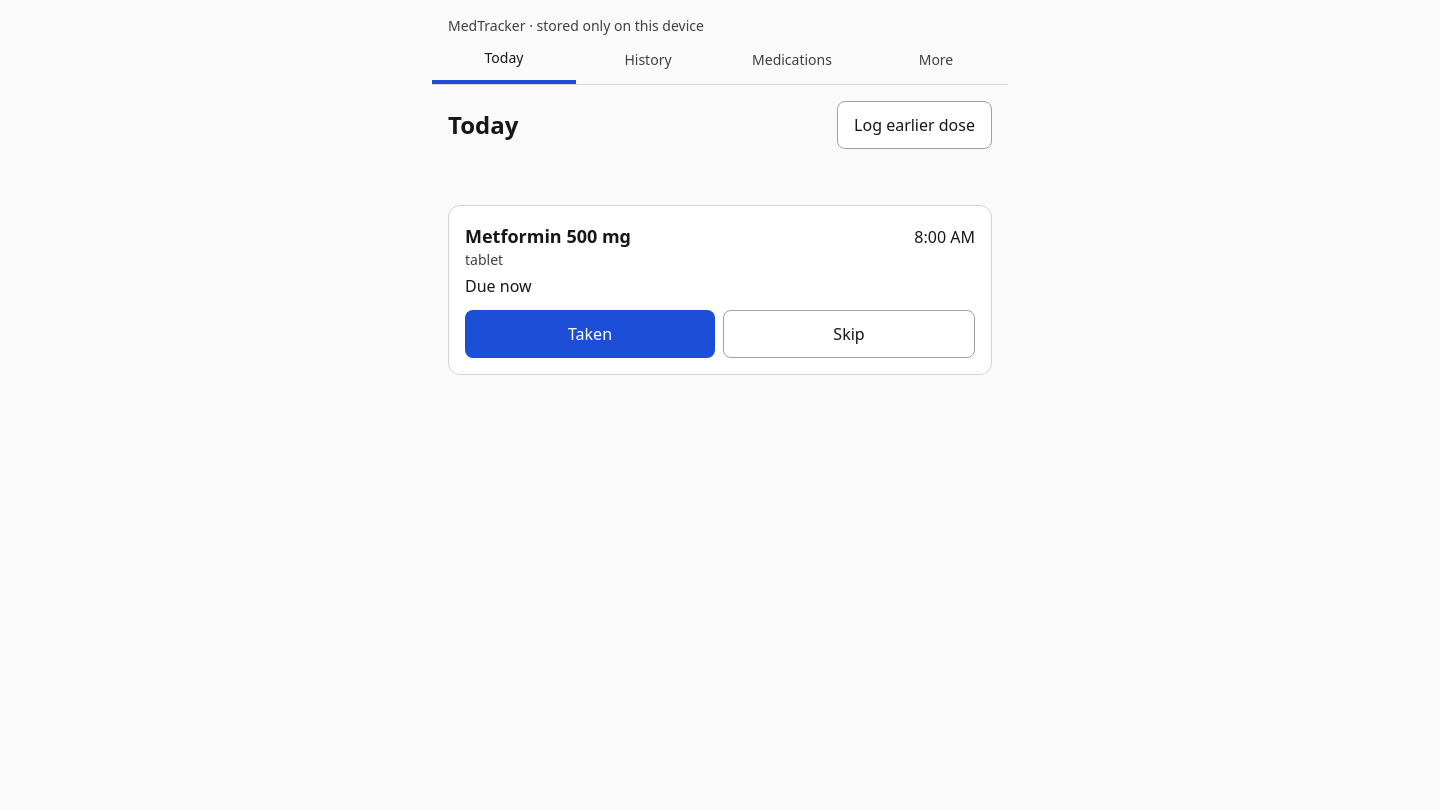
Test: History › shows corrections with original time context and change history
Click the button "Taken" at coordinates (590, 334), box [465,310,715,358]
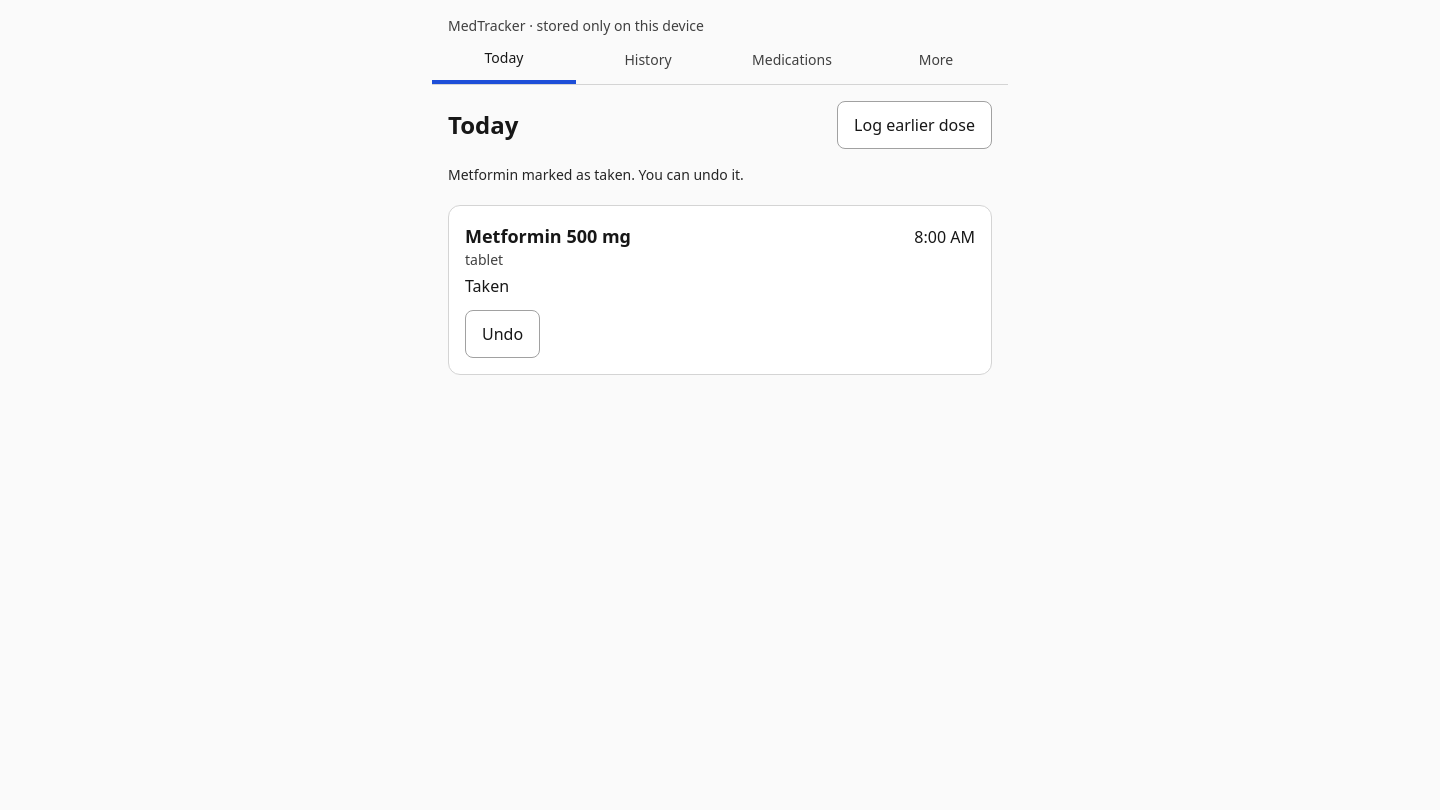
Click the tab "History" at coordinates (648, 60), box [576,36,720,84]
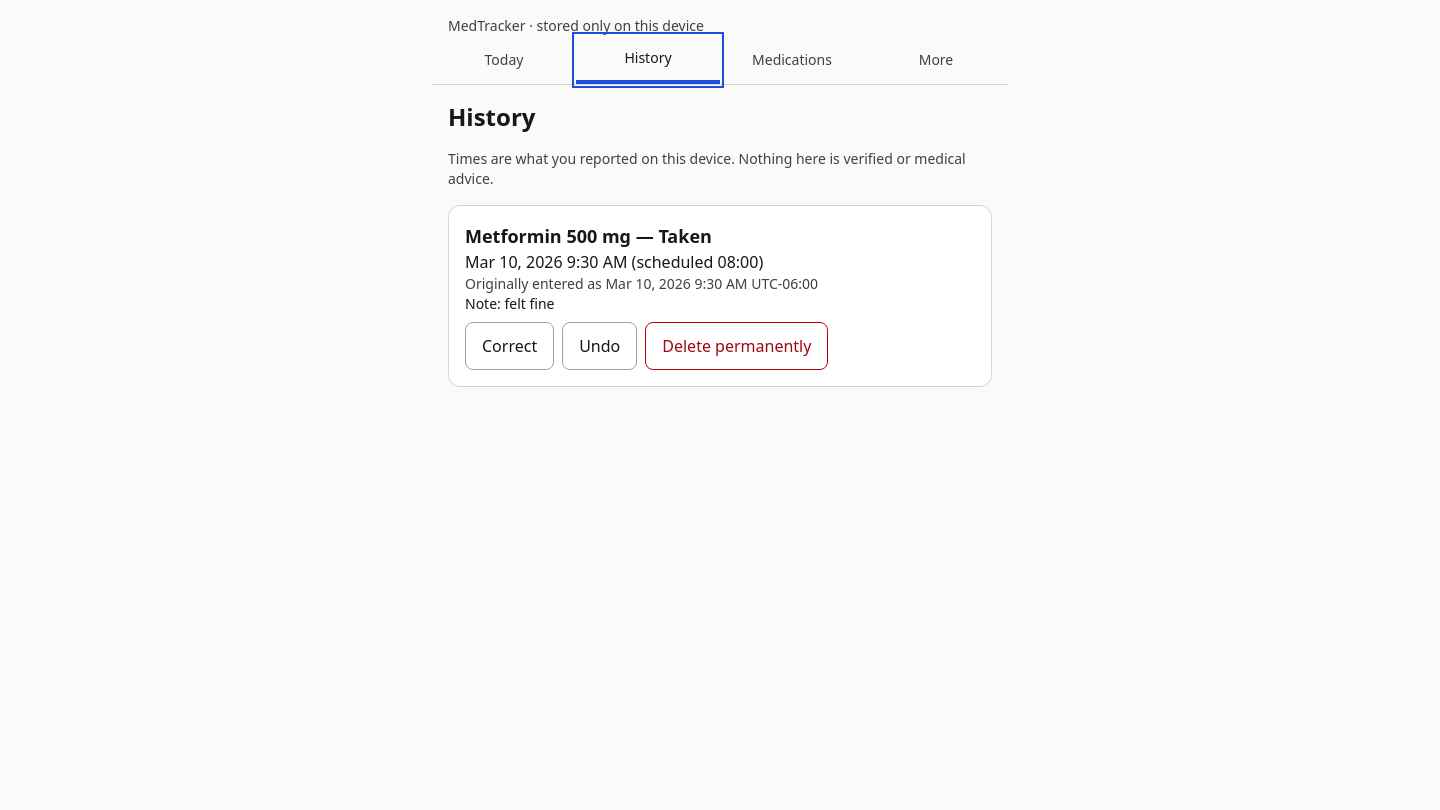
Result: the text "Originally entered as Mar 10, 2026 9:30 AM UTC-06:00" is shown at [465,274,818,293]
Click the button "Correct" at coordinates (510, 346), box [465,322,554,370]
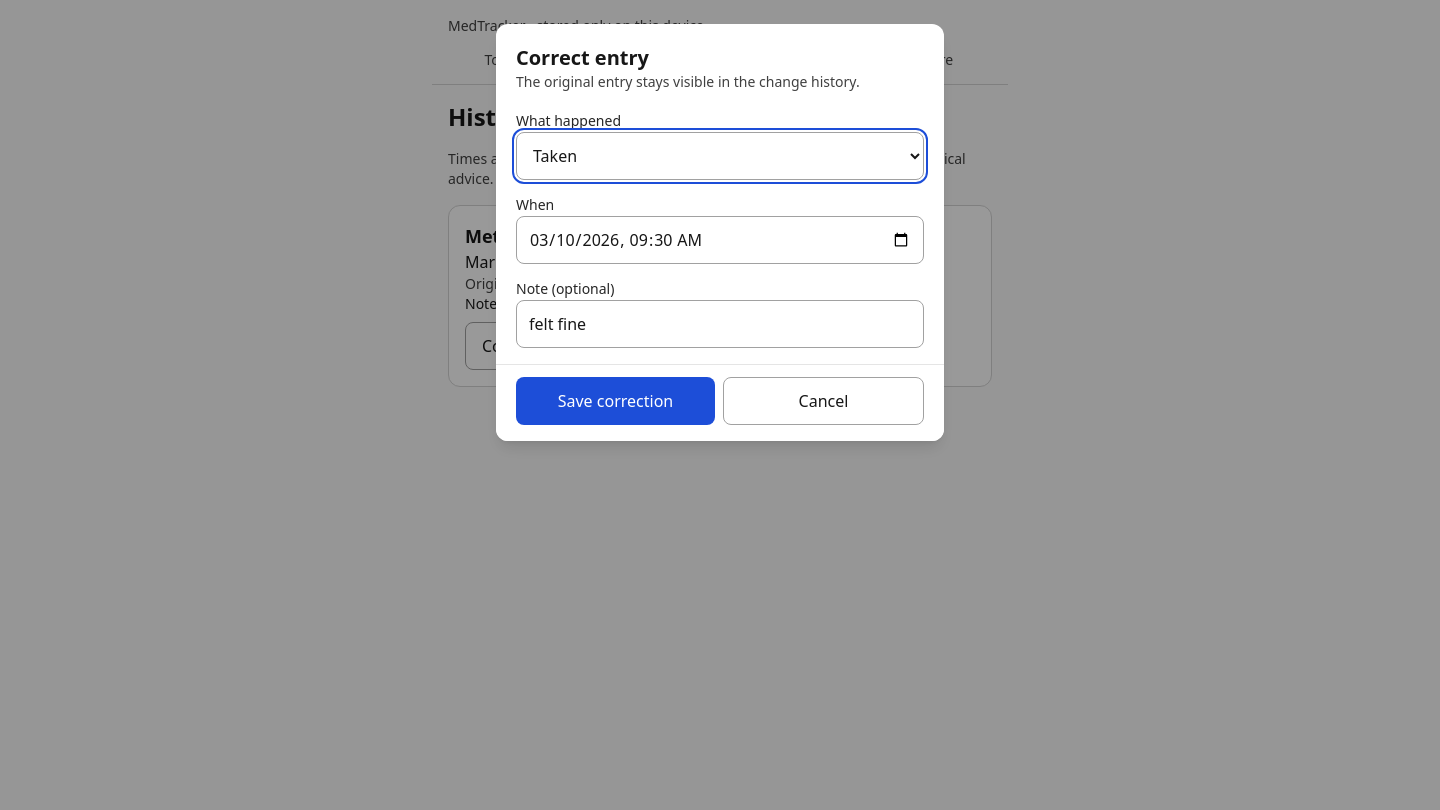
Select "Skipped" in the dropdown labelled "What happened" at coordinates (720, 156), box [516,132,924,180]
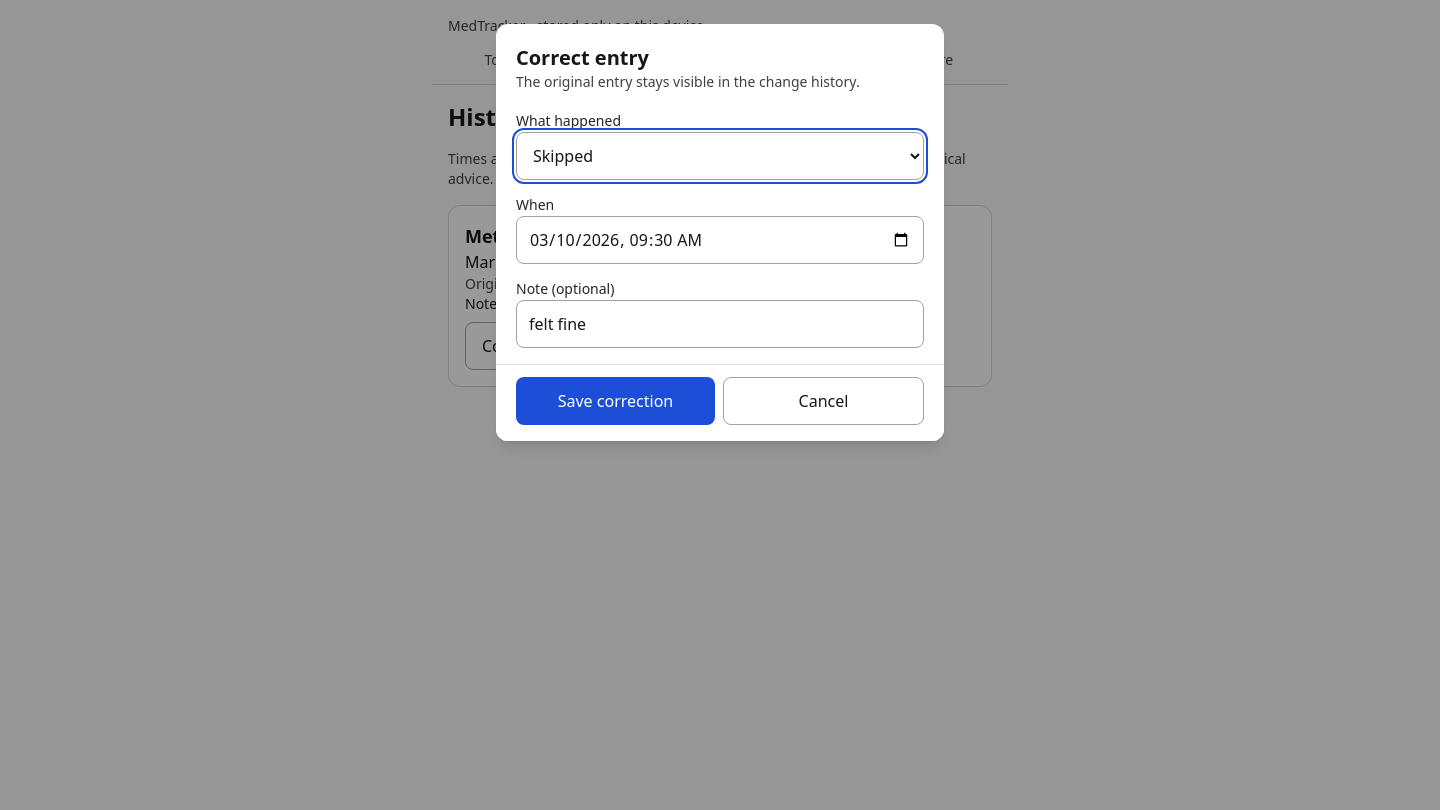
Click the button "Save correction" at coordinates (616, 401), box [516,377,715,425]
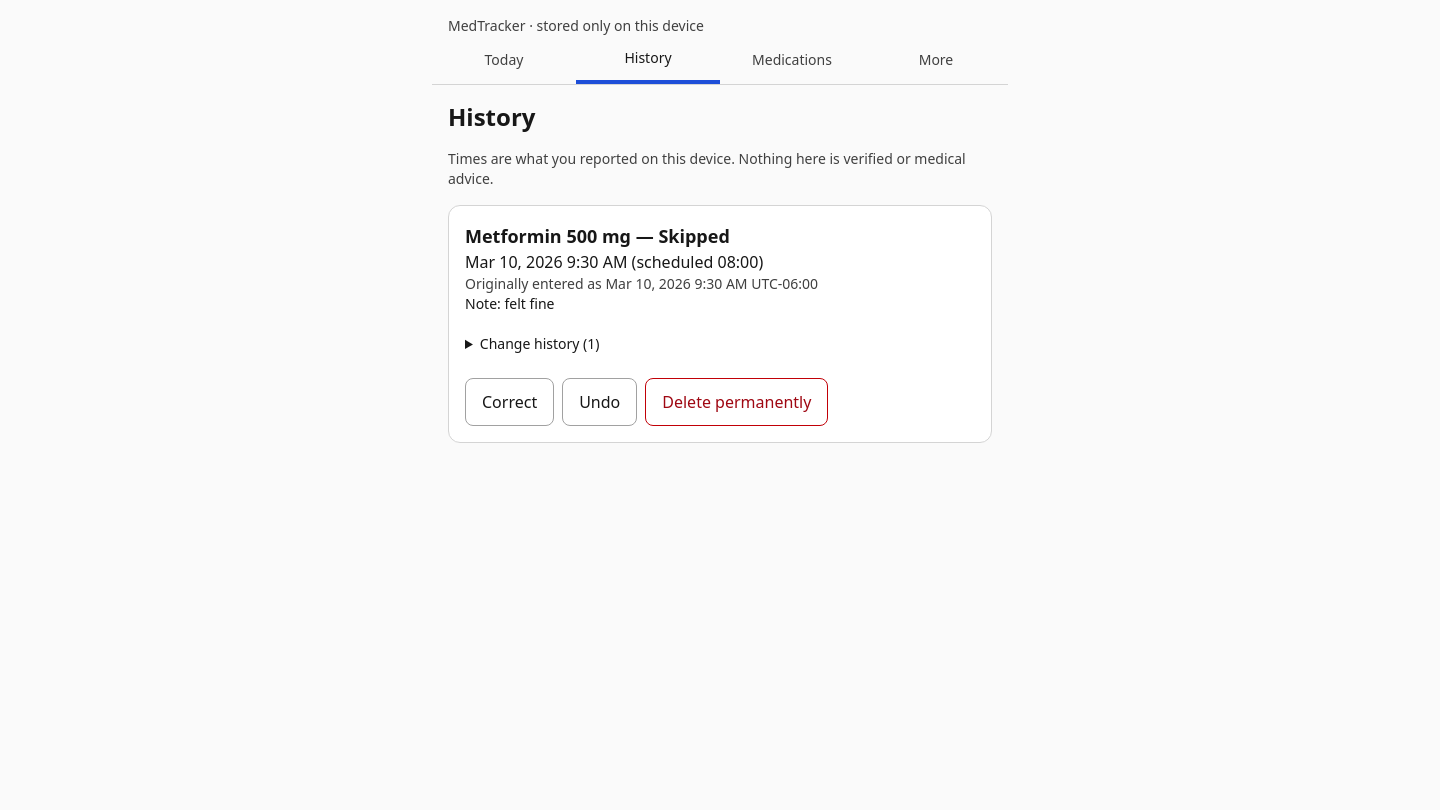
Result: the text "Metformin 500 mg — Skipped" is shown at [465,224,730,248]
Result: the heading "Change history (1)" is shown at [480,334,599,353]
